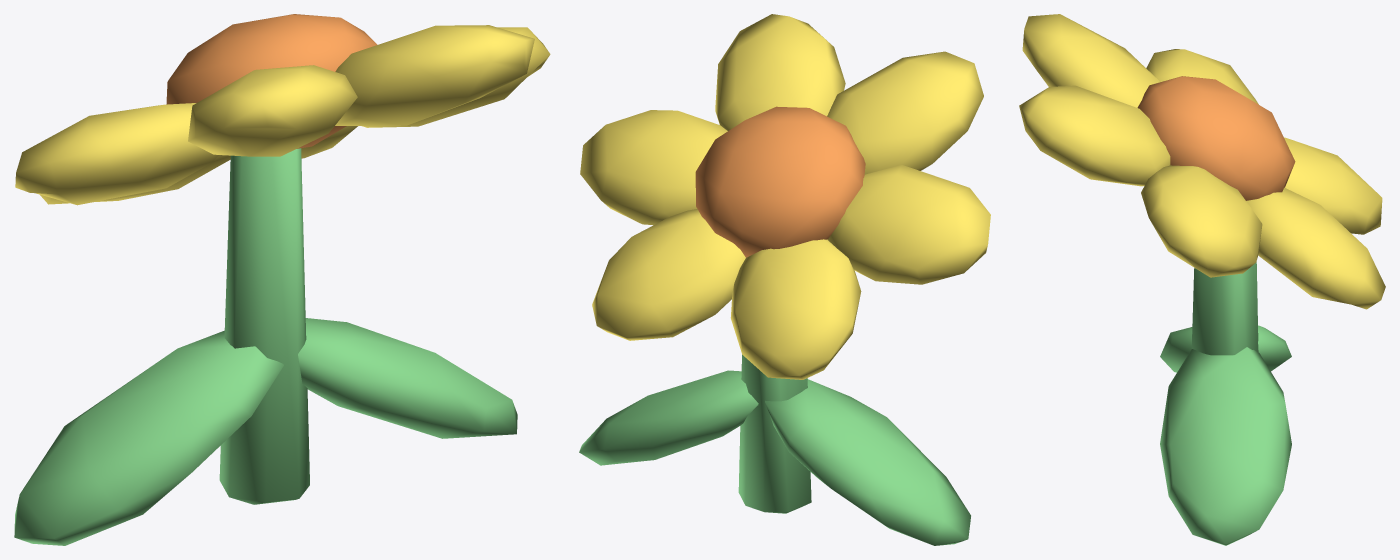
File: flower_daisy_yellow.glb
The picture shows the model from 3 angles, left to right: view 1: azimuth 30°, elevation 25°; view 2: azimuth 150°, elevation 25°; view 3: azimuth 270°, elevation 25°; orthographic projection. The views are drawn at different scales.
Visible parts, largest first — view 1: Leaf_-1, Stem, Leaf_1, Petal_5, Petal_3, Petal_4, ButtonCenter, Petal_0, Petal_2; view 2: ButtonCenter, Leaf_-1, Petal_2, Petal_3, Petal_1, Petal_4, Petal_0, Petal_5, Leaf_1, Stem; view 3: Leaf_1, ButtonCenter, Petal_5, Petal_1, Petal_0, Petal_4, Stem, Petal_2, Petal_3, Leaf_-1.
Part boxes in pixels (x1,y1,x2,y2): Leaf_-1: (14,330,283,545); Stem: (219,148,309,504); Leaf_1: (298,318,517,438); Petal_5: (335,25,534,125); Petal_3: (15,103,219,205); Petal_4: (188,65,357,156); ButtonCenter: (166,14,377,148); Petal_0: (362,27,550,127); Petal_2: (40,155,230,204); ButtonCenter: (695,106,865,257); Leaf_-1: (765,379,970,545); Petal_2: (730,239,861,379); Petal_3: (827,165,990,284); Petal_1: (592,209,745,340); Petal_4: (827,51,983,174); Petal_0: (580,110,727,225); Petal_5: (715,14,845,130); Leaf_1: (579,370,758,465); Stem: (738,354,811,513); Leaf_1: (1160,347,1291,545); ButtonCenter: (1137,76,1295,200); Petal_5: (1019,85,1170,186); Petal_1: (1246,187,1385,309); Petal_0: (1141,165,1262,277); Petal_4: (1022,14,1159,107); Stem: (1191,262,1258,355); Petal_2: (1284,137,1382,234); Petal_3: (1146,49,1258,104); Leaf_-1: (1160,325,1291,372).
Size of the model in its own units: 0.3998 by 0.3763 by 0.312.
